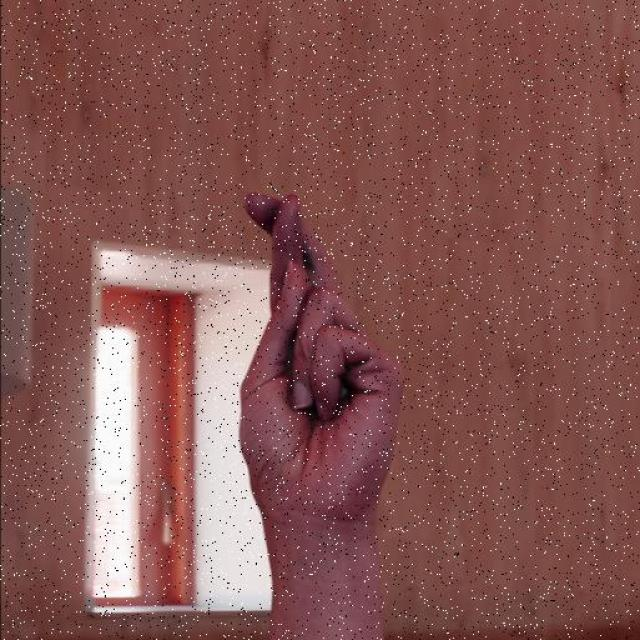R: (238, 185, 406, 526)
